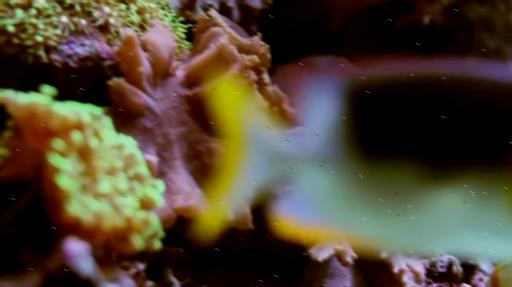Fish: (188, 58, 511, 261), (487, 262, 511, 286)
